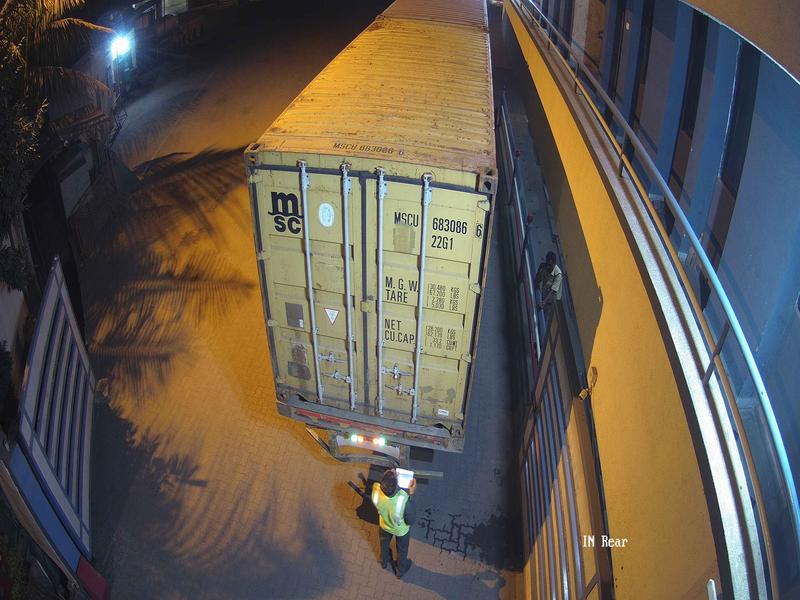container: (242, 138, 512, 455)
